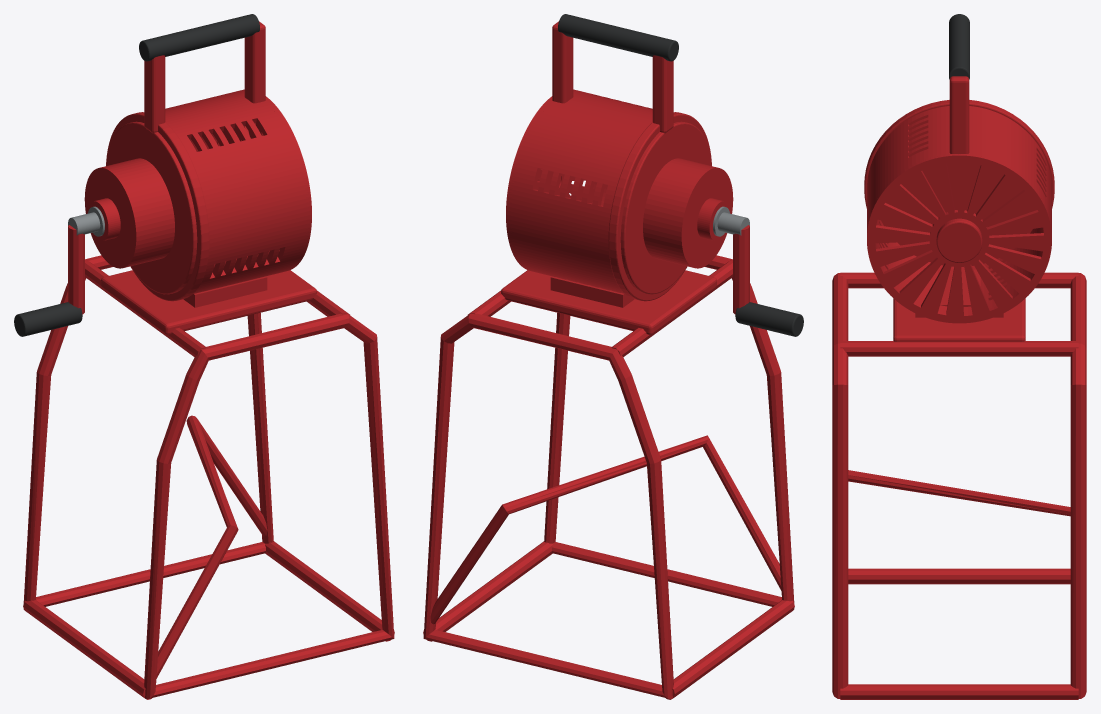
The picture shows the model from 3 angles, left to right: view 1: azimuth 30°, elevation 25°; view 2: azimuth 150°, elevation 25°; view 3: azimuth 270°, elevation 25°; orthographic projection.
Parts seen in each view (by area): view 1: Vented thick barrel shell, bent support loop, bent support loop.001, Rear gearbox with axial bore, rear closed cover, saddle plate, lower diagonal brace, reinforced rear casing band, carry grip, frame cross tube.002, frame cross tube.003, handle post rear (+8 smaller); view 2: Vented thick barrel shell, bent support loop.001, bent support loop, Rear gearbox with axial bore, rear closed cover, saddle plate, lower diagonal brace, reinforced rear casing band, carry grip, frame cross tube.002, frame cross tube.003, handle post rear (+8 smaller); view 3: Radially slotted front plate, Vented thick barrel shell, bent support loop, bent support loop.001, reinforced rear casing band, frame cross tube.002, frame cross tube.003, frame cross tube.001, saddle plate, lower diagonal brace, front hub, handle post front (+3 smaller).
Part boxes in pixels (box(x1,y1,x2,y2)): Vented thick barrel shell: box(165, 90, 309, 293); bent support loop: box(144, 313, 394, 699); bent support loop.001: box(23, 255, 273, 609); Rear gearbox with axial bore: box(84, 158, 174, 268); rear closed cover: box(106, 121, 197, 294); saddle plate: box(101, 270, 316, 335); lower diagonal brace: box(156, 415, 267, 678); reinforced rear casing band: box(106, 112, 209, 301); carry grip: box(139, 14, 259, 61); frame cross tube.002: box(23, 600, 151, 699); frame cross tube.003: box(264, 541, 394, 641); handle post rear: box(144, 55, 165, 133); Vented thick barrel shell: box(508, 90, 652, 293); bent support loop.001: box(423, 313, 673, 699); bent support loop: box(544, 255, 794, 609); Rear gearbox with axial bore: box(643, 158, 733, 268); rear closed cover: box(620, 121, 711, 294); saddle plate: box(501, 270, 716, 335); lower diagonal brace: box(430, 435, 781, 624); reinforced rear casing band: box(608, 112, 711, 301); carry grip: box(558, 14, 678, 61); frame cross tube.002: box(666, 600, 794, 699); frame cross tube.003: box(423, 541, 553, 641); handle post rear: box(652, 55, 673, 133); Radially slotted front plate: box(867, 153, 1051, 323); Vented thick barrel shell: box(867, 106, 1051, 313); bent support loop: box(832, 273, 848, 698); bent support loop.001: box(1070, 273, 1086, 698); reinforced rear casing band: box(864, 100, 1054, 266); frame cross tube.002: box(848, 568, 1070, 584); frame cross tube.003: box(840, 684, 1078, 699); frame cross tube.001: box(840, 341, 1078, 356); saddle plate: box(893, 298, 1025, 341); lower diagonal brace: box(848, 470, 1070, 516); front hub: box(936, 218, 982, 262); handle post front: box(949, 76, 969, 153).
Bounding box in the file's own units: 0.4098 × 0.7456 × 0.288.
